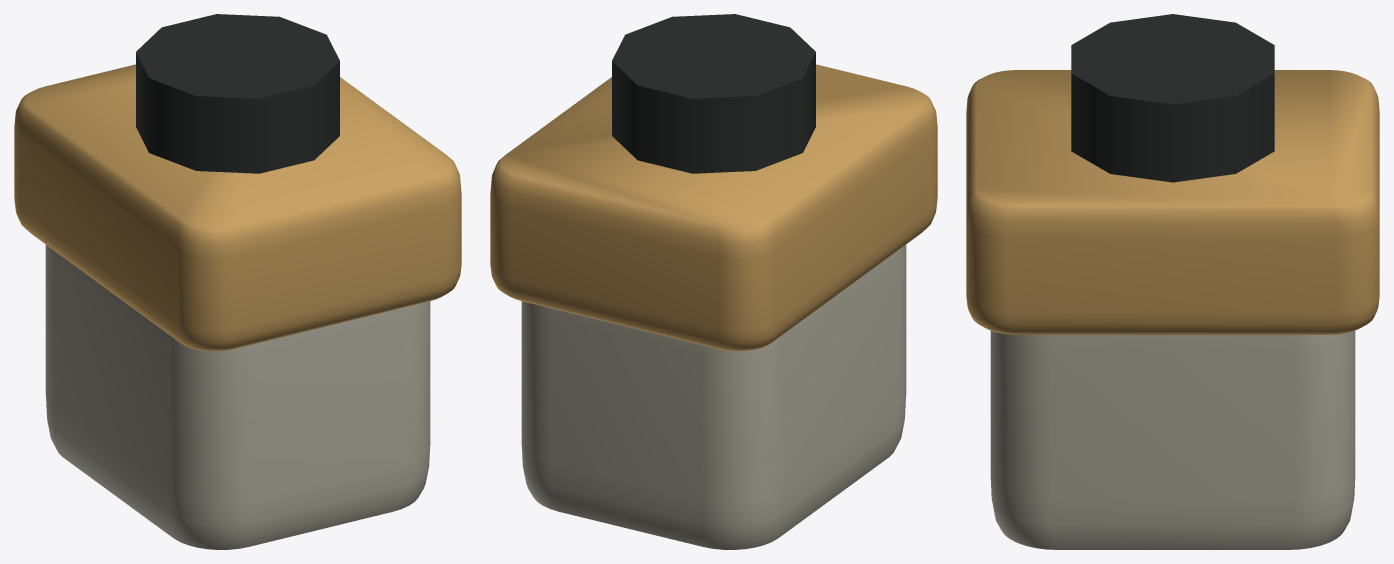
Rendered from Continental.glb.
3 renders of one model, left to right at view 1: azimuth 30°, elevation 25°; view 2: azimuth 150°, elevation 25°; view 3: azimuth 270°, elevation 25°, orthographic. The views are drawn at different scales.
Parts seen in each view (by area): view 1: Stop thumb, Stop clamp, Screw adjuster; view 2: Stop thumb, Stop clamp, Screw adjuster; view 3: Stop thumb, Stop clamp, Screw adjuster.
Boxes of the visible parts, bbox=[...] form: Stop thumb: bbox=[14, 64, 461, 351]; Stop clamp: bbox=[45, 244, 430, 549]; Screw adjuster: bbox=[136, 14, 339, 173]; Stop thumb: bbox=[490, 64, 937, 351]; Stop clamp: bbox=[521, 244, 906, 549]; Screw adjuster: bbox=[612, 14, 815, 173]; Stop thumb: bbox=[966, 70, 1379, 334]; Stop clamp: bbox=[990, 331, 1355, 549]; Screw adjuster: bbox=[1071, 14, 1274, 182].
Size of the model in its own units: 0.1379 by 0.195 by 0.17.
